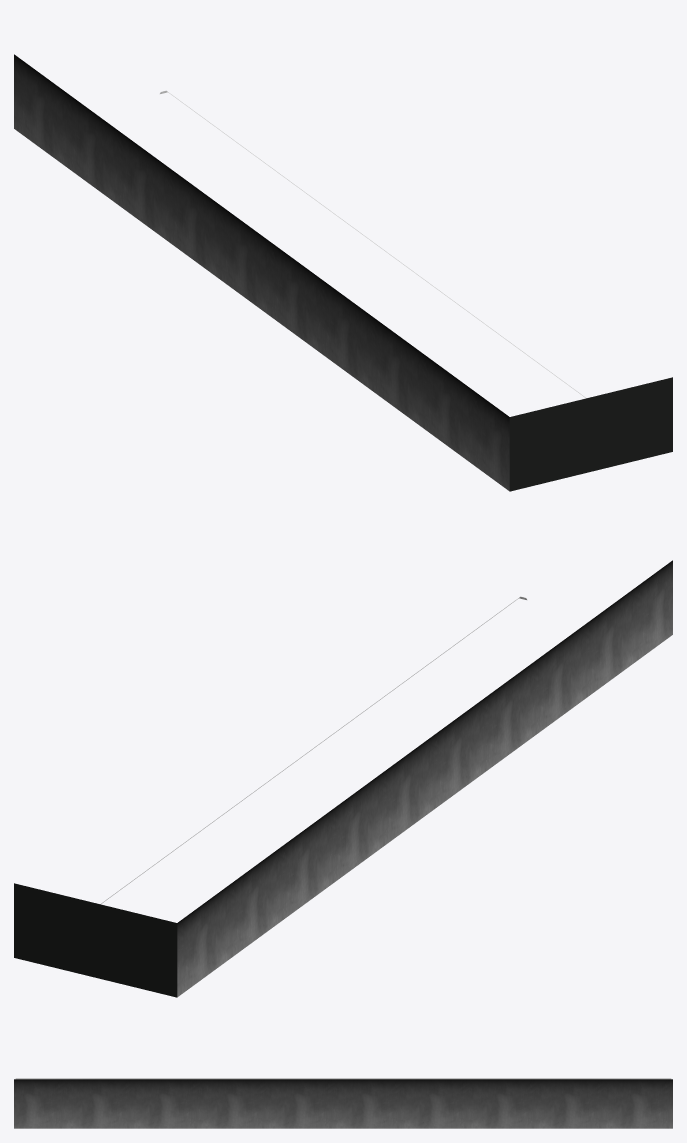
File: AMB_CHIKA_HOME_TENJO.glb
3 views of the same model, one above another, from view 1: azimuth 30°, elevation 25°; view 2: azimuth 150°, elevation 25°; view 3: azimuth 270°, elevation 25° (orthographic). The views are drawn at different scales.
Parts seen in each view (by area): view 1: Mesh1; view 2: Mesh1; view 3: Mesh1.
Boxes of the visible parts, box(x1,y1,x2,y2) form: Mesh1: box(14, 54, 672, 491); Mesh1: box(14, 560, 672, 997); Mesh1: box(14, 1078, 672, 1128).
Size of the model in its own units: 19 by 8.3 by 100.
Materials: 4 (3 with a texture image).
